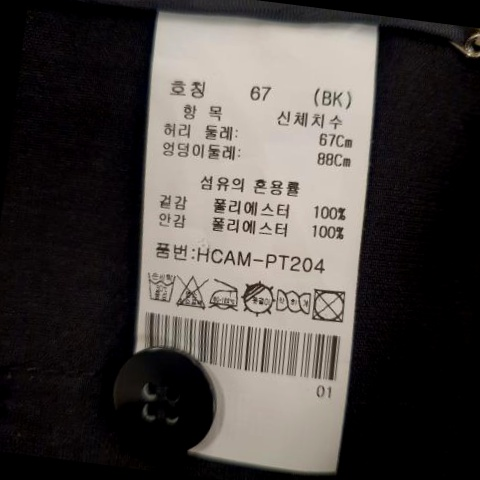DN_bleach: (176, 269, 213, 313)
DN_tumble_dry: (312, 285, 351, 324)
hand_wash: (144, 267, 180, 306)
iron_low: (208, 275, 242, 311)
line_dry_in_shade: (239, 276, 280, 317)
wring: (275, 285, 315, 319)
